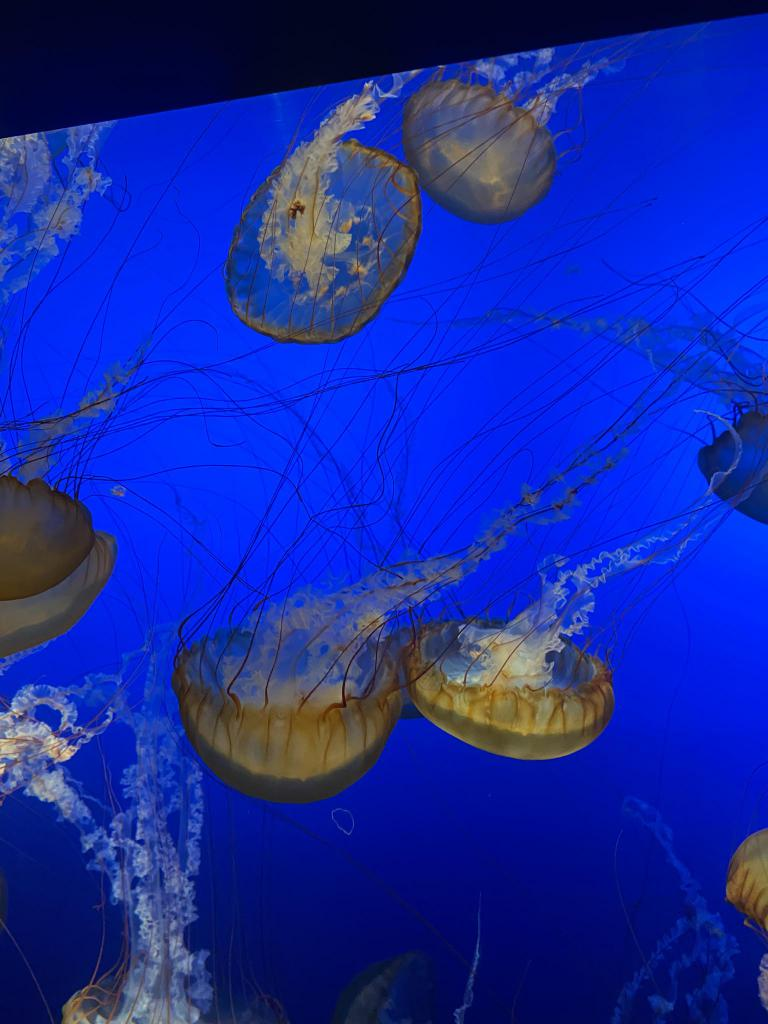jellyfish: (226, 118, 420, 336), (184, 630, 403, 802), (394, 614, 618, 770), (408, 83, 552, 223), (0, 470, 109, 649), (58, 953, 230, 1023), (695, 402, 767, 532), (711, 812, 767, 928)
